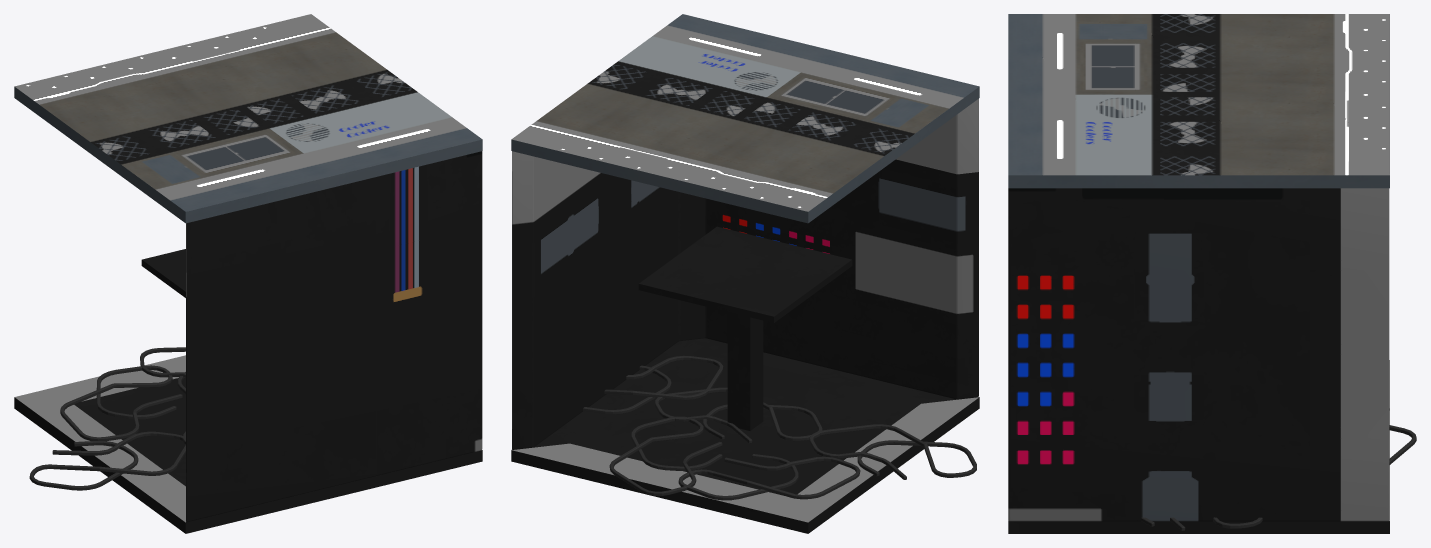
Rendered from corner invert TABLE.fbx.
The picture shows the model from 3 angles, left to right: view 1: azimuth 30°, elevation 25°; view 2: azimuth 150°, elevation 25°; view 3: azimuth 270°, elevation 25°; orthographic projection. The views are drawn at different scales.
Parts seen in each view (by area): view 1: Cube, Plane.001, Plane, Cube.004, Plane.002; view 2: Cube, Plane.001, Plane, Plane.002, Cube.004; view 3: Cube, Plane.001, Plane, Cube.004.
Boxes of the visible parts, box(x1,y1,x2,y2) form: Cube: box(186, 151, 482, 522); Plane.001: box(14, 14, 482, 223); Plane: box(14, 355, 482, 533); Cube.004: box(29, 347, 185, 490); Plane.002: box(141, 249, 185, 297); Cube: box(512, 99, 978, 449); Plane.001: box(511, 14, 979, 223); Plane: box(511, 338, 979, 533); Plane.002: box(638, 226, 852, 430); Cube.004: box(583, 355, 976, 500); Cube: box(1008, 188, 1389, 521); Plane.001: box(1008, 14, 1389, 188); Plane: box(1008, 360, 1389, 533); Cube.004: box(1141, 408, 1416, 530).
Size of the model in its own units: 263 by 207 by 214.
